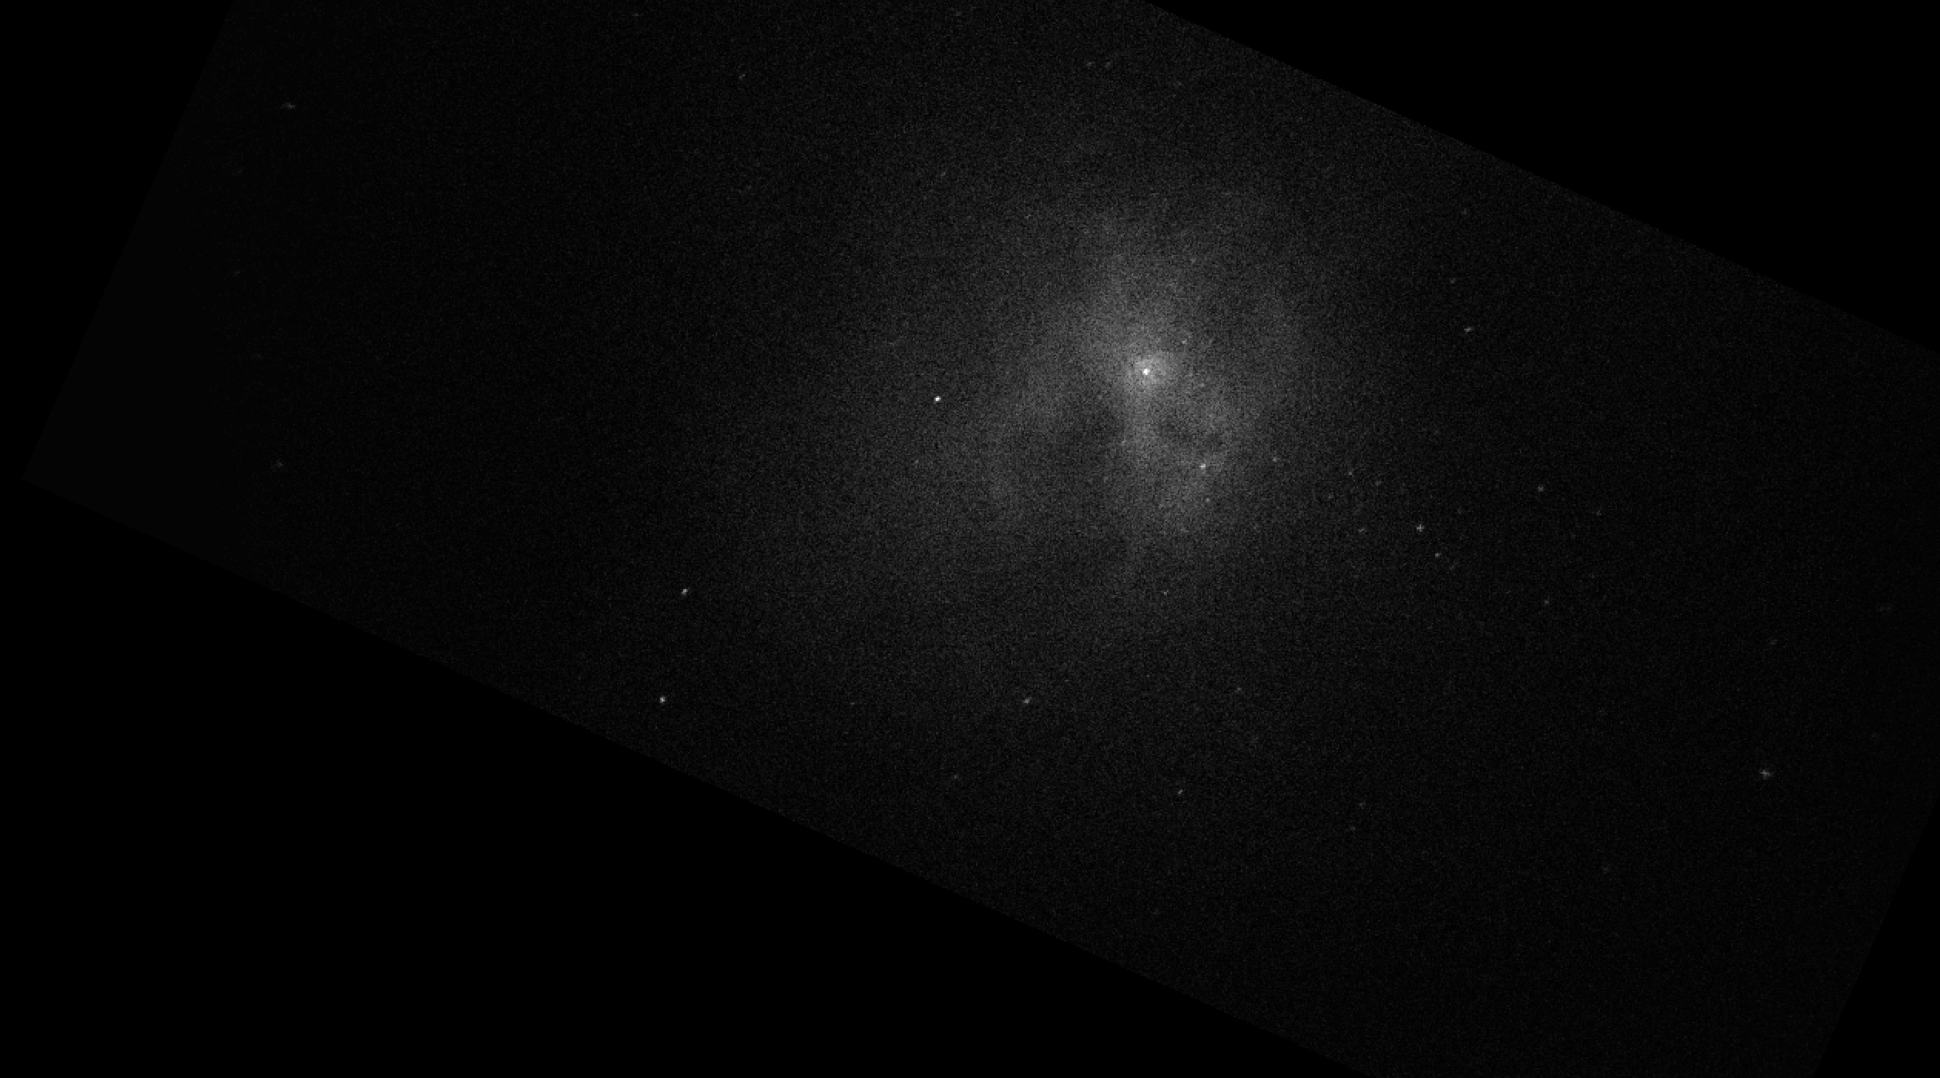Cavity: (1170, 254, 1300, 396), (985, 385, 1129, 503), (1149, 414, 1226, 458), (1123, 268, 1152, 311), (1153, 368, 1166, 381)
Galaxy: (967, 208, 1310, 551)
